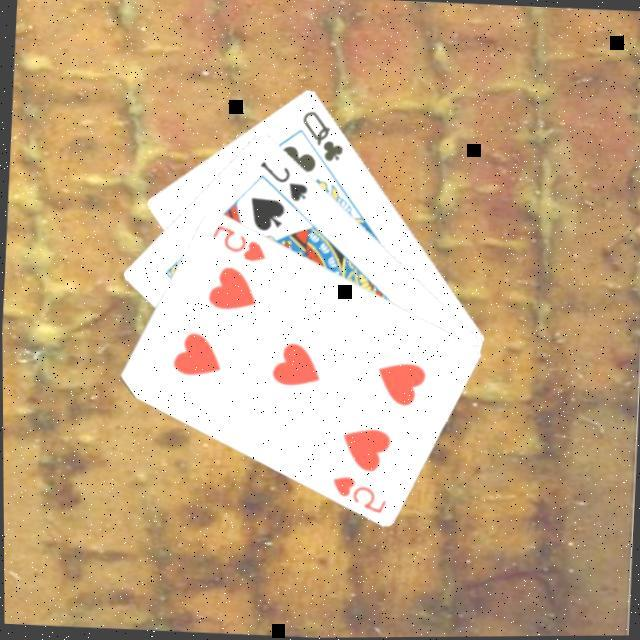5H: (326, 473, 390, 519), (208, 222, 270, 267)
JS: (255, 159, 313, 208)
QC: (297, 109, 349, 168)
